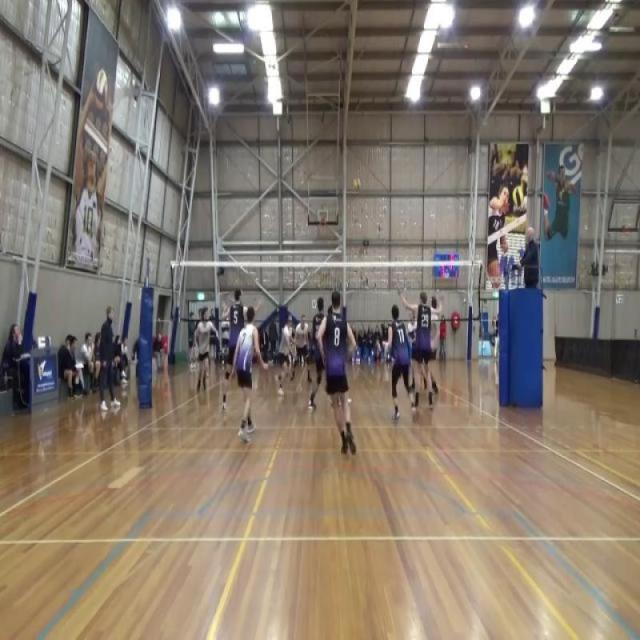volleyball: (95, 68, 109, 112), (512, 184, 524, 209), (353, 177, 361, 192)
